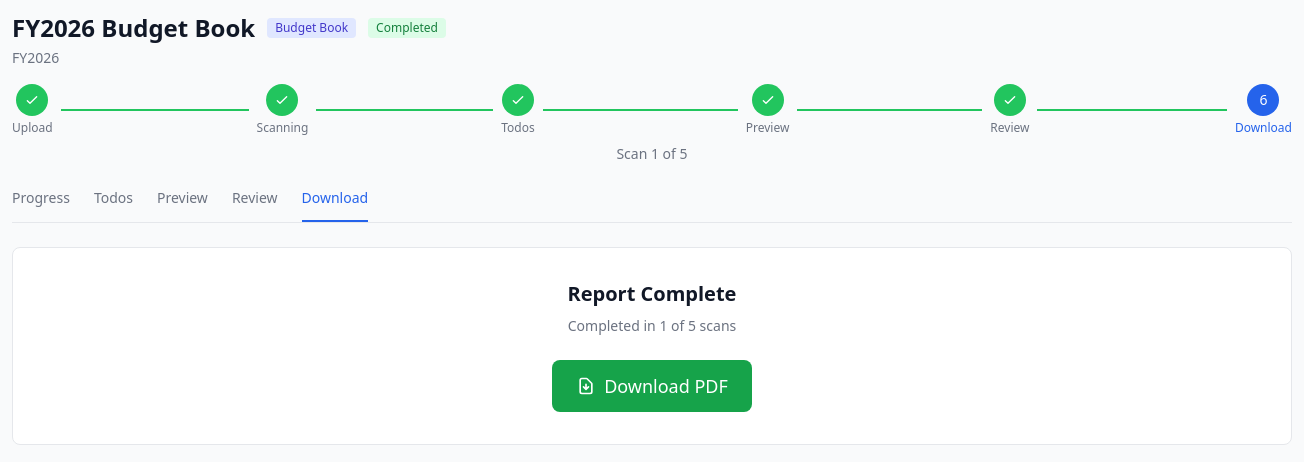
Test: ReportDetailPage › shows 'No reviews' in Review tab when empty
The width and height of the screenshot is (1304, 462).
What coordinates should you click on to do the following:
click the button "Review"
I would click on:
 (255, 205)
Its box is x1=232 y1=188 x2=278 y2=222.
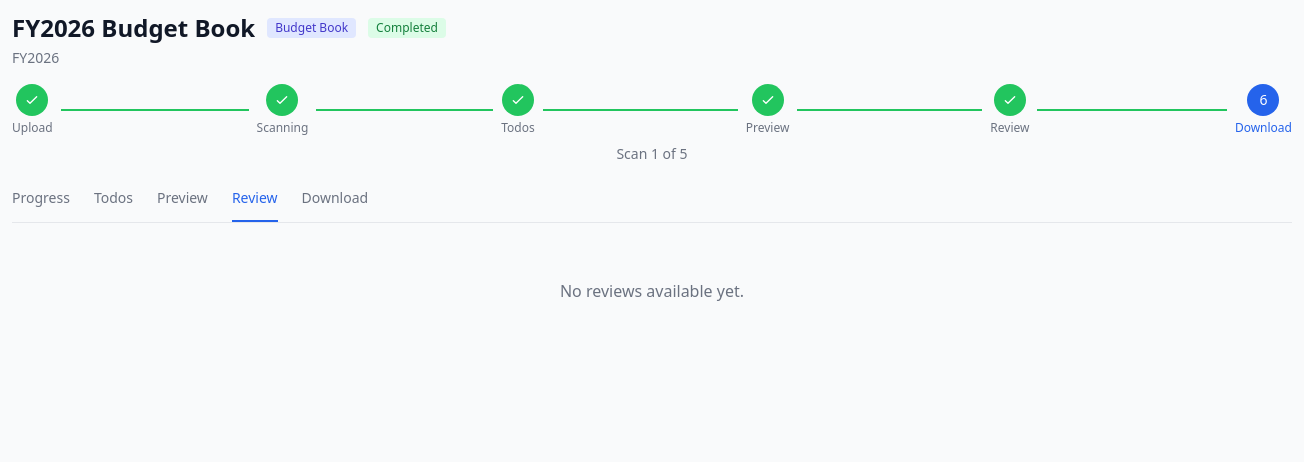
Check: the text "No reviews available yet." is shown, box x1=560 y1=280 x2=744 y2=302
